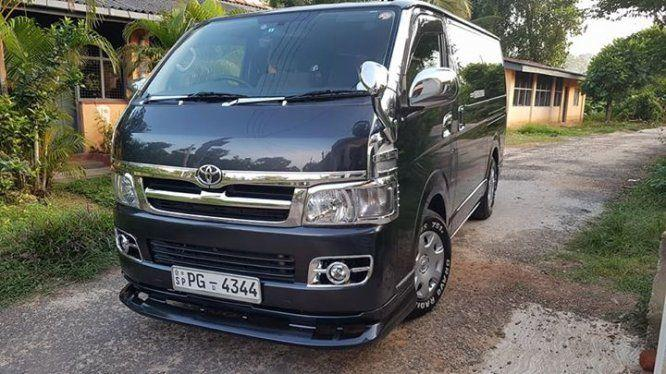van: (110, 2, 505, 350)
